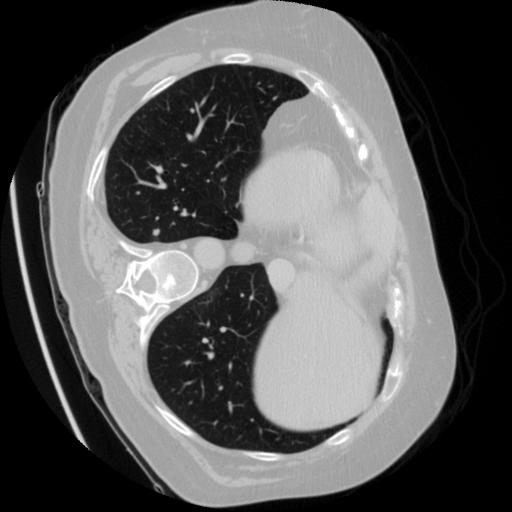nodule: (151, 227, 165, 241)
